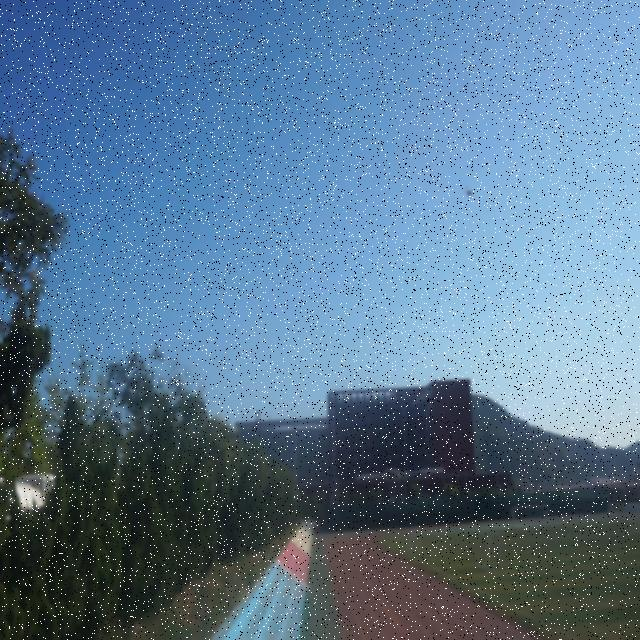UAV: (464, 186, 475, 198)
